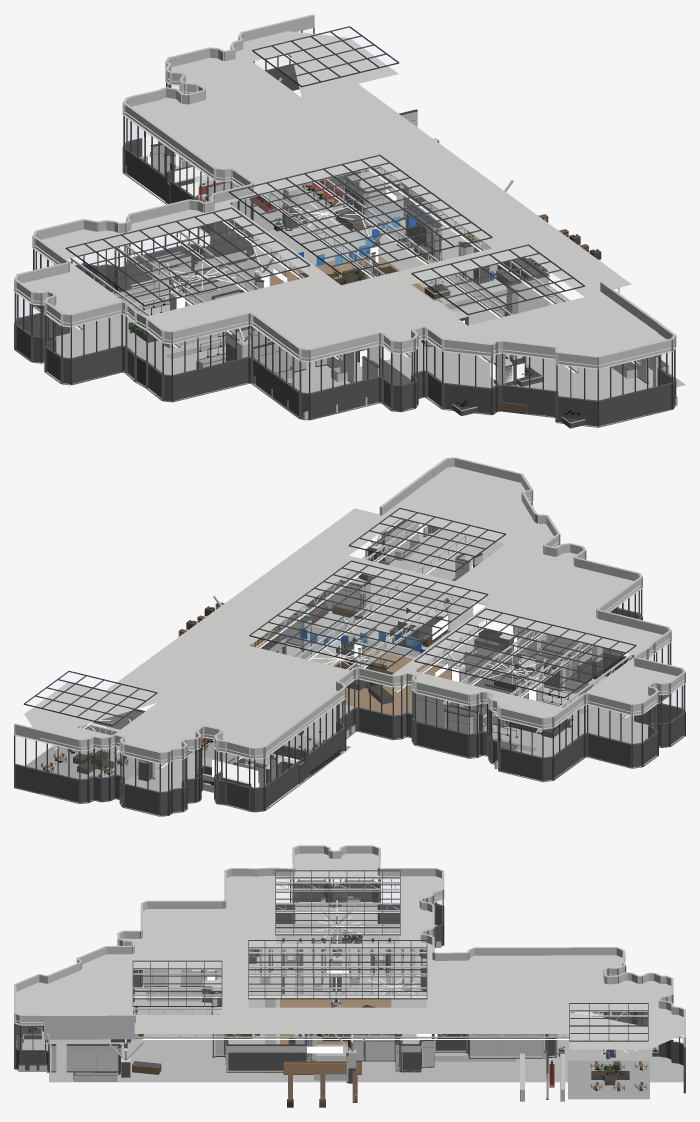
Rendered from T_West.glb.
The picture shows the model from 3 angles, top to bottom: view 1: azimuth 30°, elevation 25°; view 2: azimuth 150°, elevation 25°; view 3: azimuth 270°, elevation 25°; orthographic projection. The views are drawn at different scales.
Visible parts, largest first — view 1: ARCH_T_West, DENSE_T_West; view 2: ARCH_T_West, DENSE_T_West; view 3: ARCH_T_West, DENSE_T_West.
Boxes of the visible parts, x1,y1,x2,y2 form: ARCH_T_West: (14,14,685,428); DENSE_T_West: (128,167,601,420); ARCH_T_West: (14,457,685,816); DENSE_T_West: (41,605,573,785); ARCH_T_West: (14,845,685,1102); DENSE_T_West: (17,922,657,1107).
Bounding box in the file's own units: 73.11 × 9.52 × 100.
